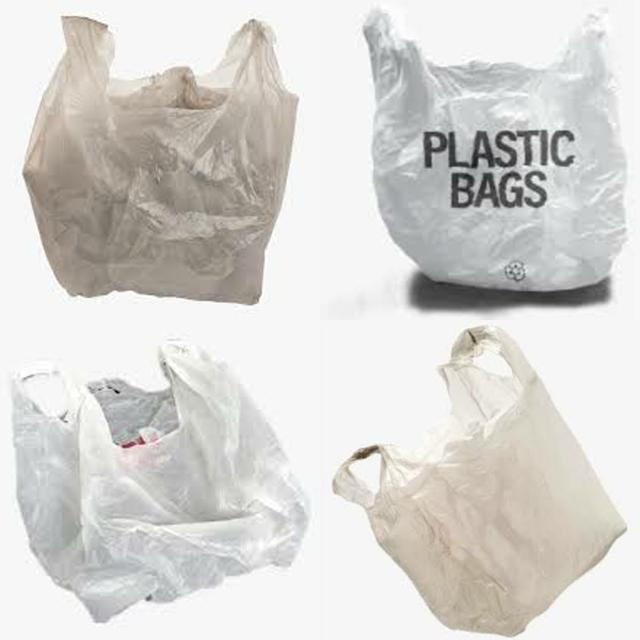Single-layer Plastic: (332, 325, 626, 636), (12, 344, 306, 621), (24, 16, 298, 304), (364, 12, 625, 291)
